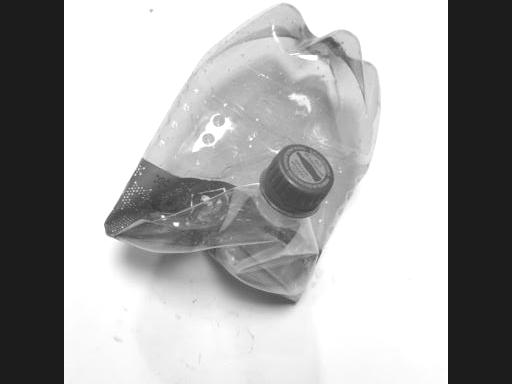bottle: (89, 0, 387, 325)
